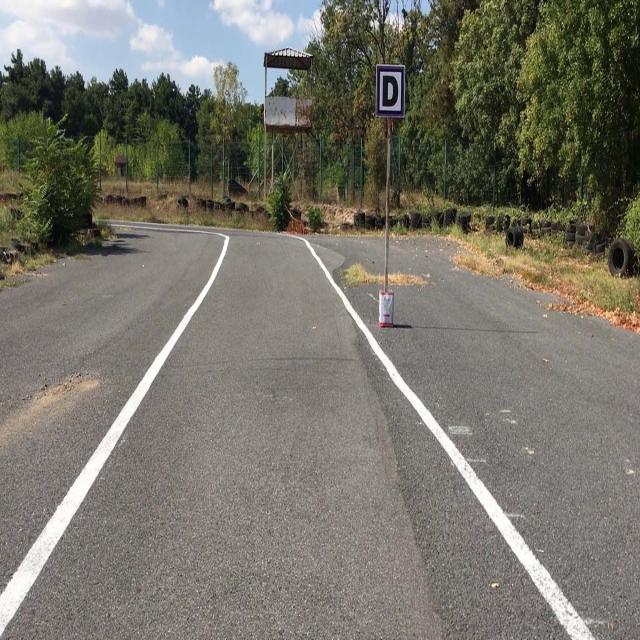durak: (377, 65, 404, 116)
